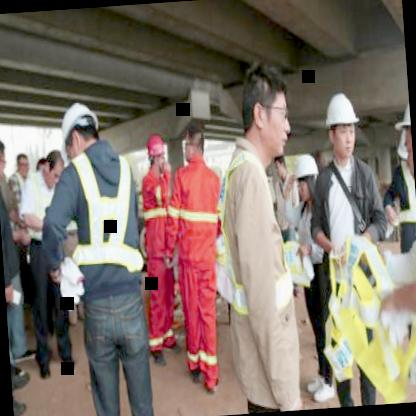helmet: (56, 102, 103, 163), (324, 92, 362, 160), (394, 82, 416, 192), (293, 154, 322, 202), (144, 134, 169, 174)
